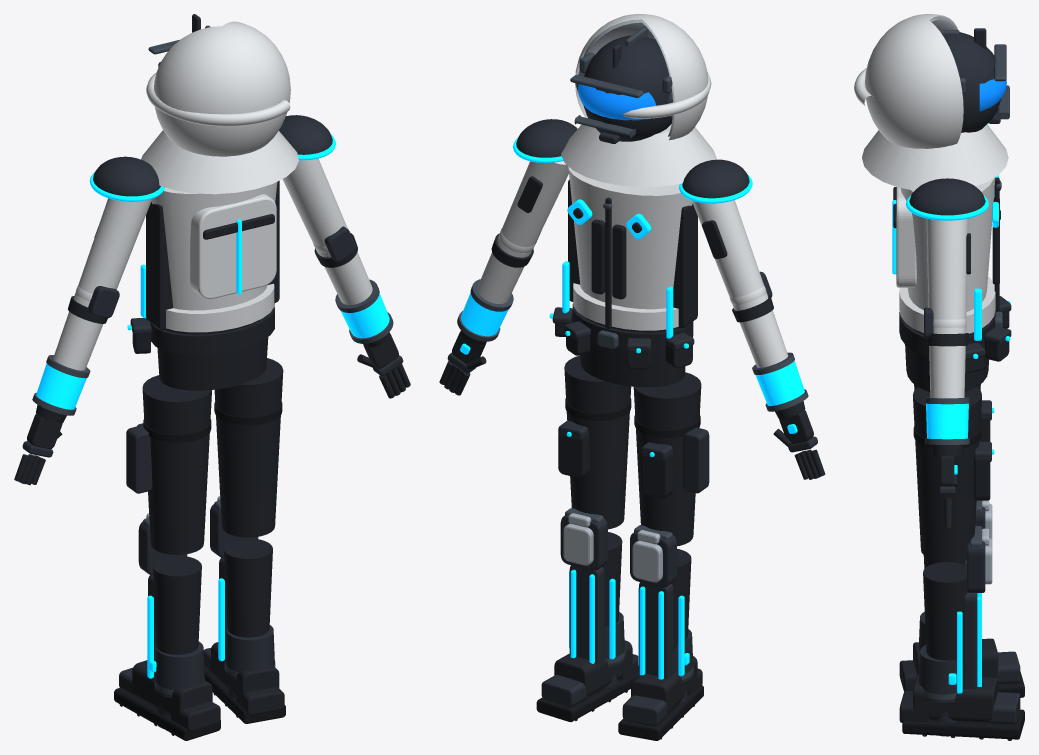
The model's file is cyan_phantom.glb.
The picture shows the model from 3 angles, left to right: view 1: azimuth 30°, elevation 25°; view 2: azimuth 150°, elevation 25°; view 3: azimuth 270°, elevation 25°; orthographic projection. The views are drawn at different scales.
Visible parts, largest first — view 1: Hood_Outer_White, Thigh_Pants_R, Thigh_Pants_L, Back_Plate_White, Cowl_Drape_White, Jacket_Main, Shin_Pants_L, Shin_Pants_R, Jacket_Lower, UpperArm_Sleeve_R, UpperArm_Sleeve_L, Belt_Strap (+25 smaller); view 2: Jacket_Main, Thigh_Pants_L, Cowl_Drape_White, Thigh_Pants_R, Helmet_Dome, Hood_Outer_White, UpperArm_Sleeve_R, Jacket_Lower, UpperArm_Sleeve_L, Torso_SidePanel_R, Shin_Guard_Grey_L, Shin_Guard_Grey_R (+33 smaller); view 3: Hood_Outer_White, Thigh_Pants_L, Cowl_Drape_White, UpperArm_Sleeve_L, Shin_Pants_L, Jacket_Main, Helmet_Dome, Boot_Body_L, Shoulder_Dome_L, Forearm_Sleeve_L, Boot_Sole_L, Back_Plate_White (+31 smaller).
Part boxes in pixels (<box>): Hood_Outer_White: <box>154,21,290,156</box>; Thigh_Pants_R: <box>142,375,211,554</box>; Thigh_Pants_L: <box>214,358,283,537</box>; Back_Plate_White: <box>190,194,276,298</box>; Cowl_Drape_White: <box>141,130,298,194</box>; Jacket_Main: <box>151,182,277,310</box>; Shin_Pants_L: <box>224,538,272,637</box>; Shin_Pants_R: <box>152,555,201,654</box>; Jacket_Lower: <box>157,316,268,390</box>; UpperArm_Sleeve_R: <box>78,198,152,294</box>; UpperArm_Sleeve_L: <box>282,158,347,246</box>; Belt_Strap: <box>151,305,274,354</box>; Jacket_Main: <box>568,166,692,309</box>; Thigh_Pants_L: <box>564,355,631,529</box>; Cowl_Drape_White: <box>561,124,716,187</box>; Thigh_Pants_R: <box>633,372,701,546</box>; Helmet_Dome: <box>583,35,672,141</box>; Hood_Outer_White: <box>575,14,708,140</box>; UpperArm_Sleeve_R: <box>692,200,763,297</box>; Jacket_Lower: <box>580,315,685,387</box>; UpperArm_Sleeve_L: <box>502,161,568,247</box>; Torso_SidePanel_R: <box>673,203,697,328</box>; Shin_Guard_Grey_L: <box>569,565,604,671</box>; Shin_Guard_Grey_R: <box>639,582,673,678</box>; Hood_Outer_White: <box>865,14,963,148</box>; Thigh_Pants_L: <box>913,387,981,561</box>; Cowl_Drape_White: <box>862,124,1008,190</box>; UpperArm_Sleeve_L: <box>926,218,968,319</box>; Shin_Pants_L: <box>923,562,967,666</box>; Jacket_Main: <box>900,177,995,312</box>; Helmet_Dome: <box>943,32,1001,132</box>; Boot_Body_L: <box>913,674,998,722</box>; Shoulder_Dome_L: <box>909,178,985,215</box>; Forearm_Sleeve_L: <box>929,327,966,398</box>; Boot_Sole_L: <box>902,709,1024,739</box>; Back_Plate_White: <box>896,187,916,287</box>.
Bounding box in the file's own units: 1.11 × 1.87 × 0.4189.
